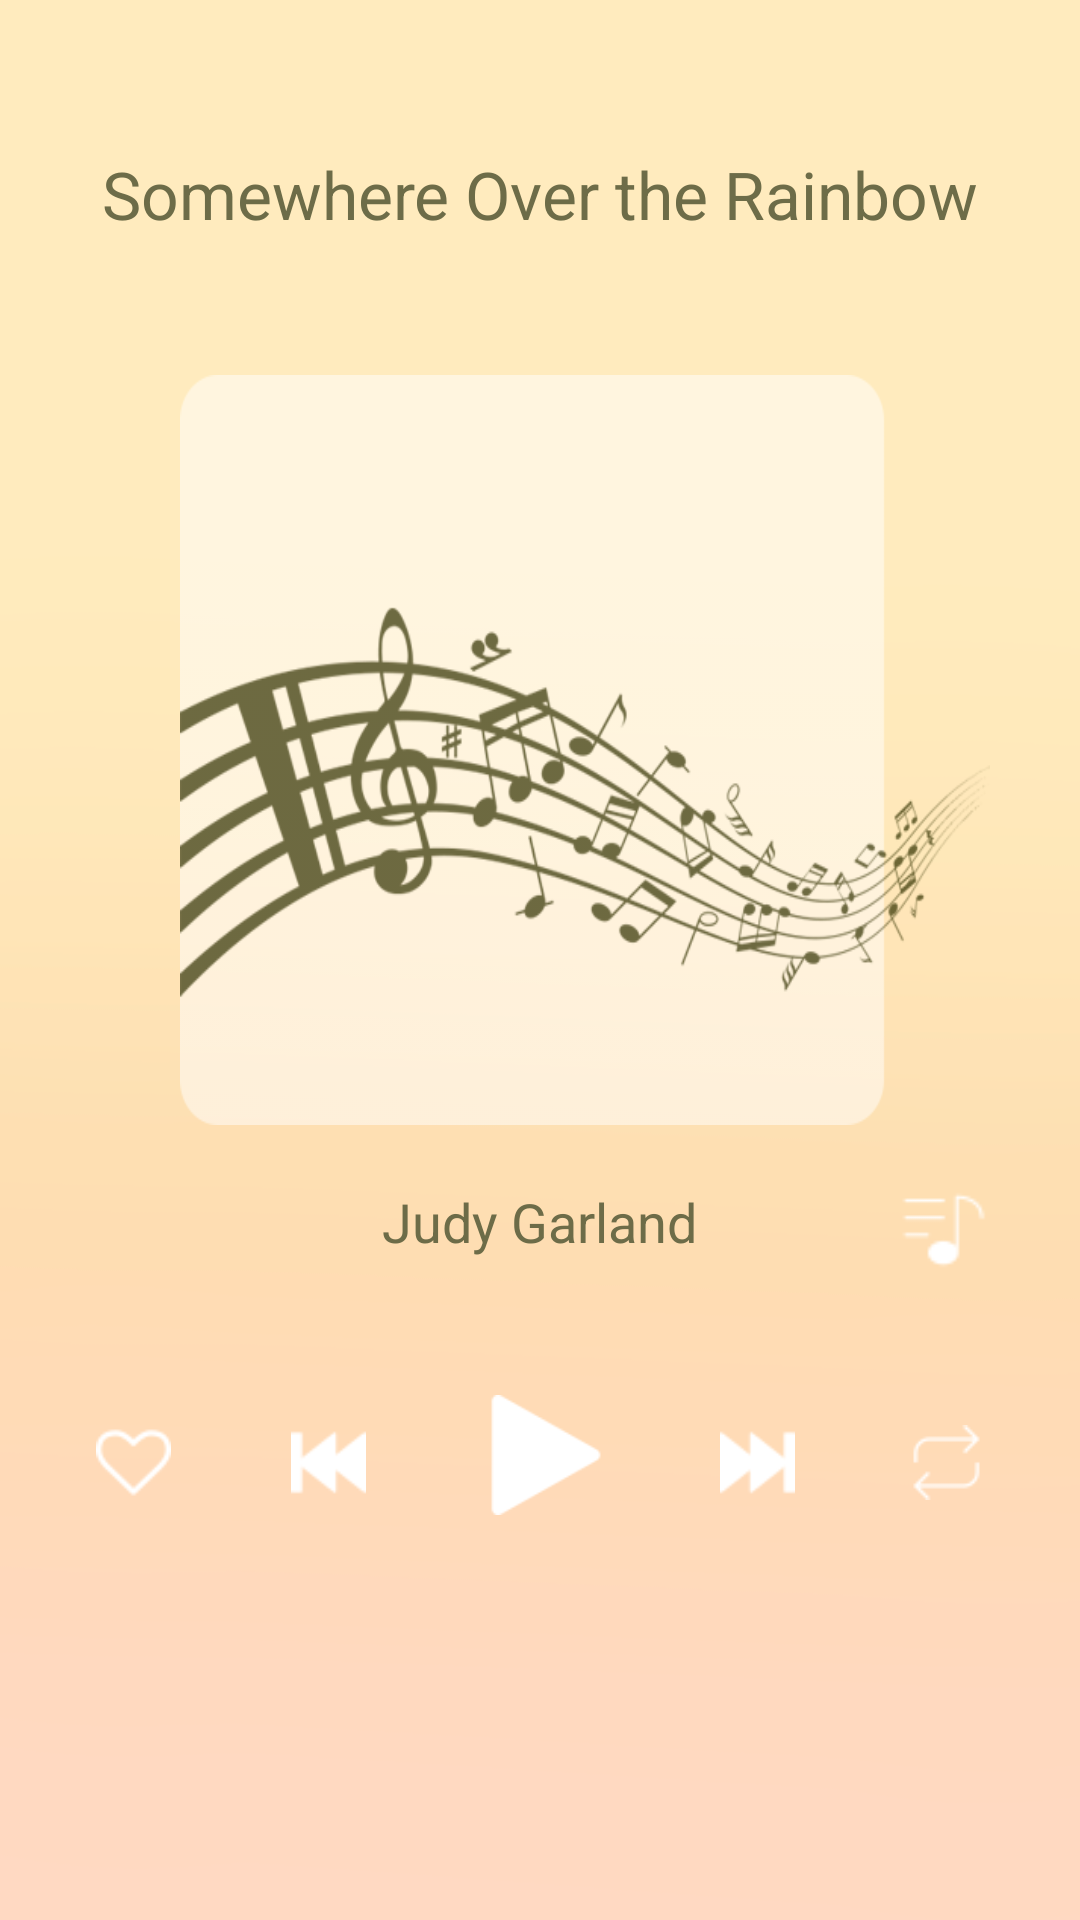

Named icons in this screenshot (1080px x 1920px) and their centers, point (x, y):
coracao: point (133, 1462)
lyrics: point (944, 1230)
play: point (545, 1455)
replay: point (946, 1462)
